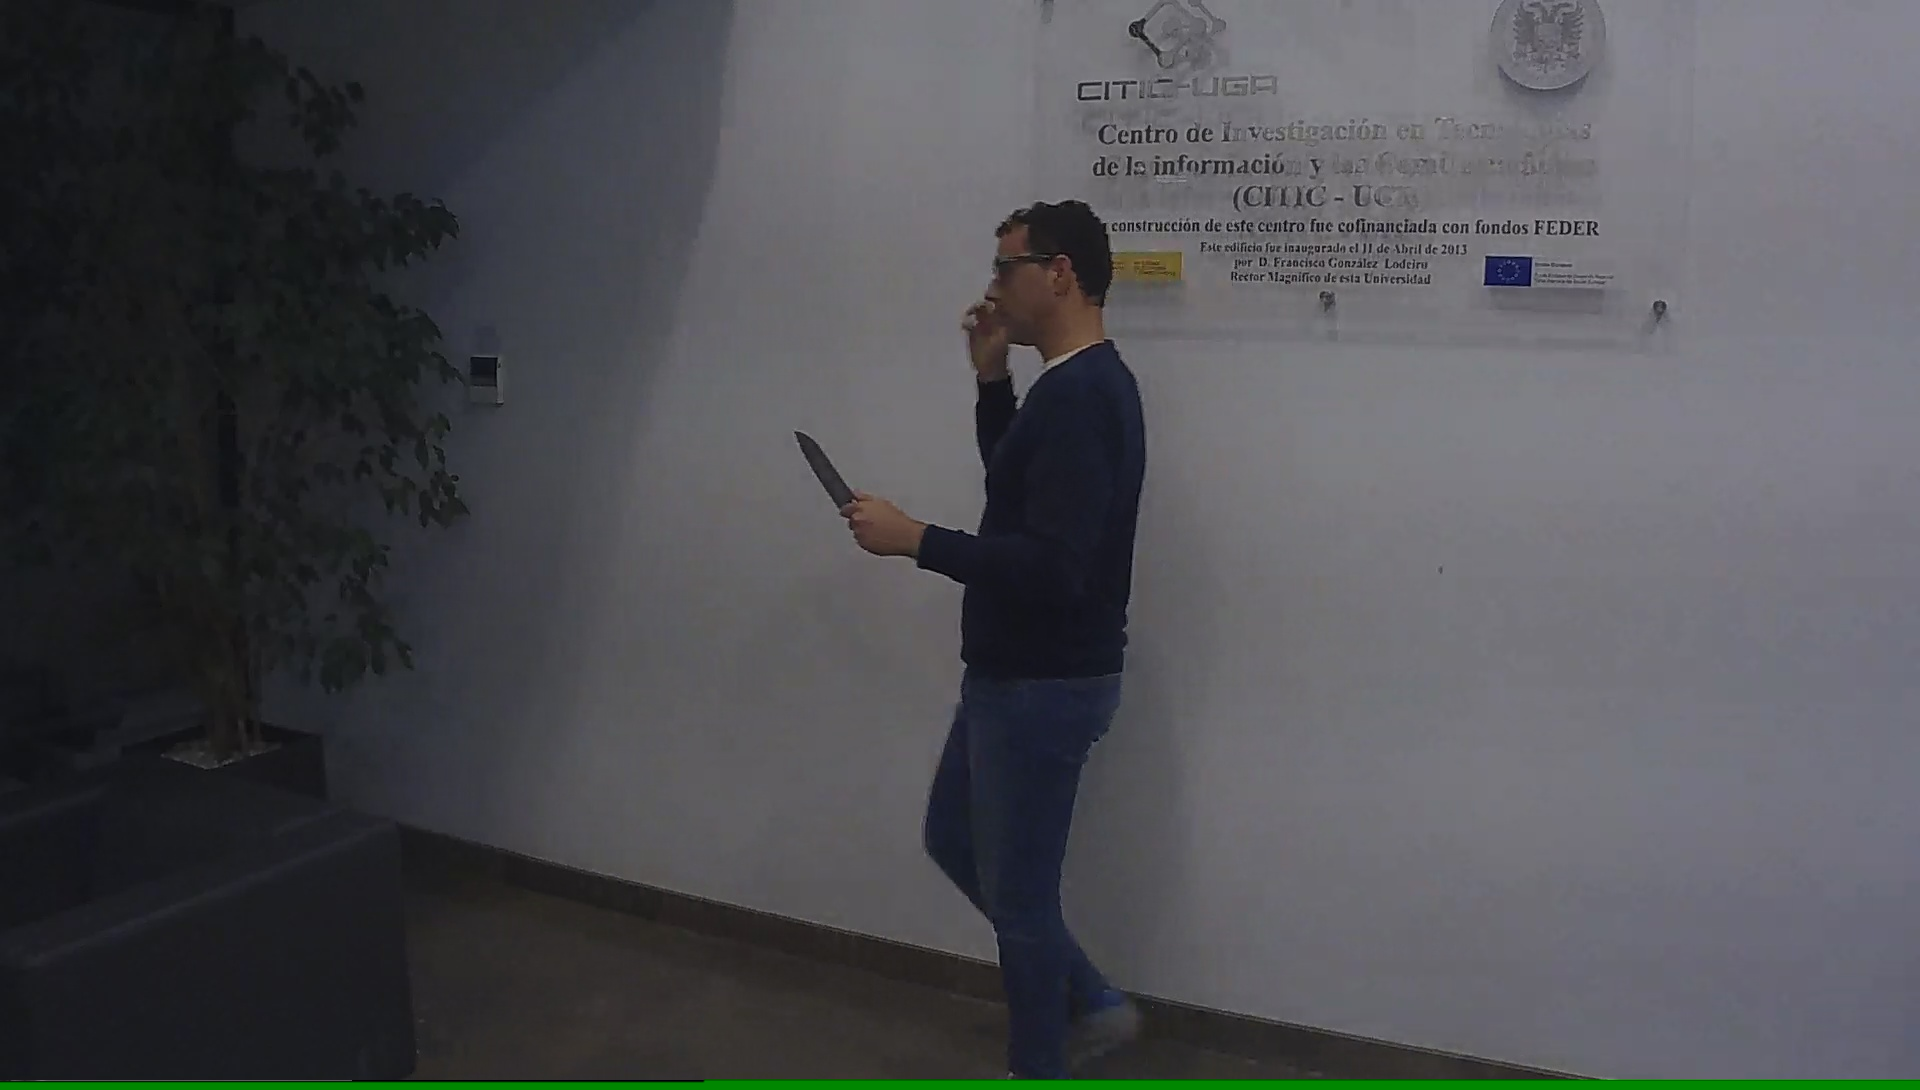knife: (790, 424, 884, 554)
